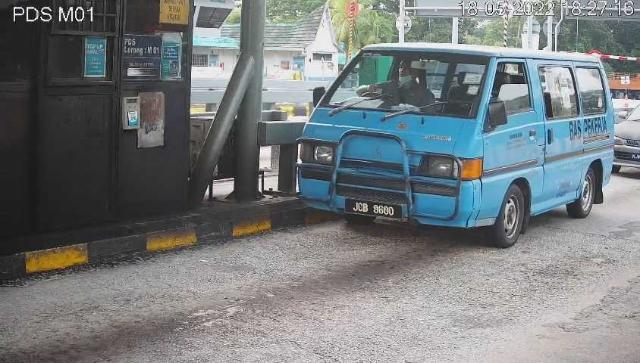License_Plate: (346, 200, 405, 223)
van: (293, 44, 617, 249)
